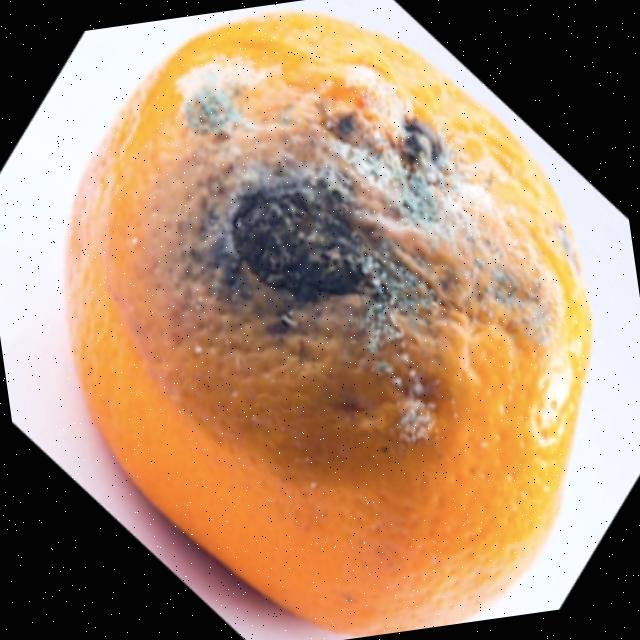Rotten: (25, 0, 630, 640)
